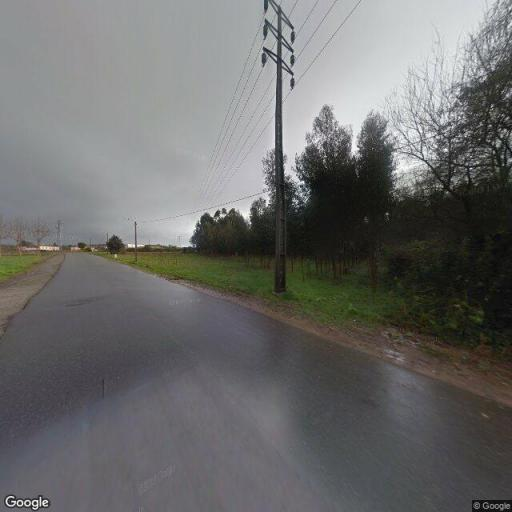mono_9: (259, 0, 298, 299)
